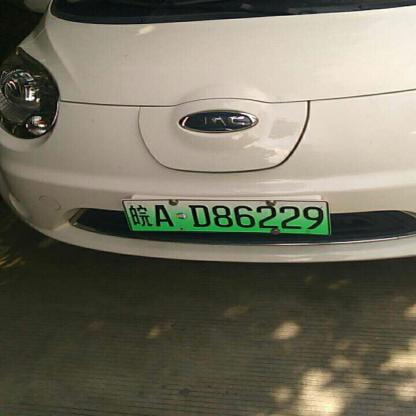lp: (122, 200, 329, 235)
